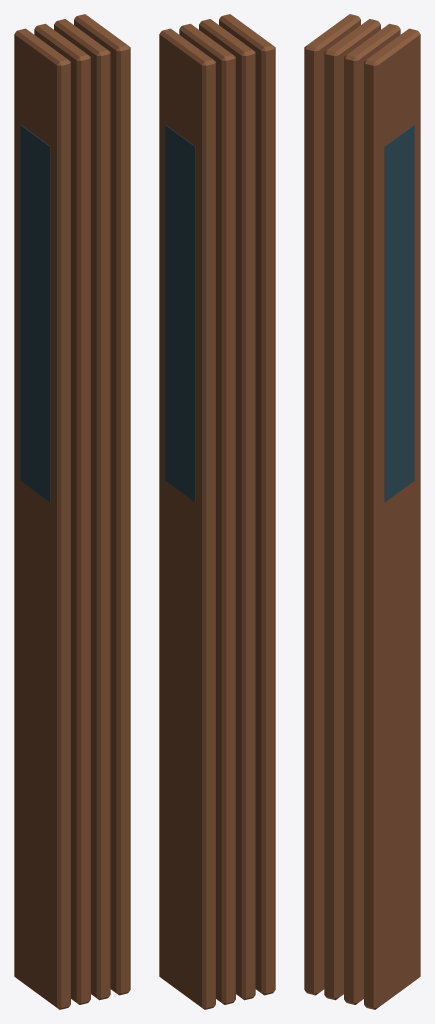
Rendered from hall_door_leaves.glb.
3 views of the same model, side by side, from view 1: azimuth 30°, elevation 25°; view 2: azimuth 210°, elevation 25°; view 3: azimuth 330°, elevation 25° (orthographic).
Parts seen in each view (by area): view 1: leaves; view 2: leaves; view 3: leaves.
Part boxes in pixels (x1=…): leaves: x1=14, y1=14, x2=130, y2=1009; leaves: x1=159, y1=14, x2=275, y2=1009; leaves: x1=304, y1=14, x2=420, y2=1009.
Size of the model in its own units: 0.264 by 3.2 by 0.28.
